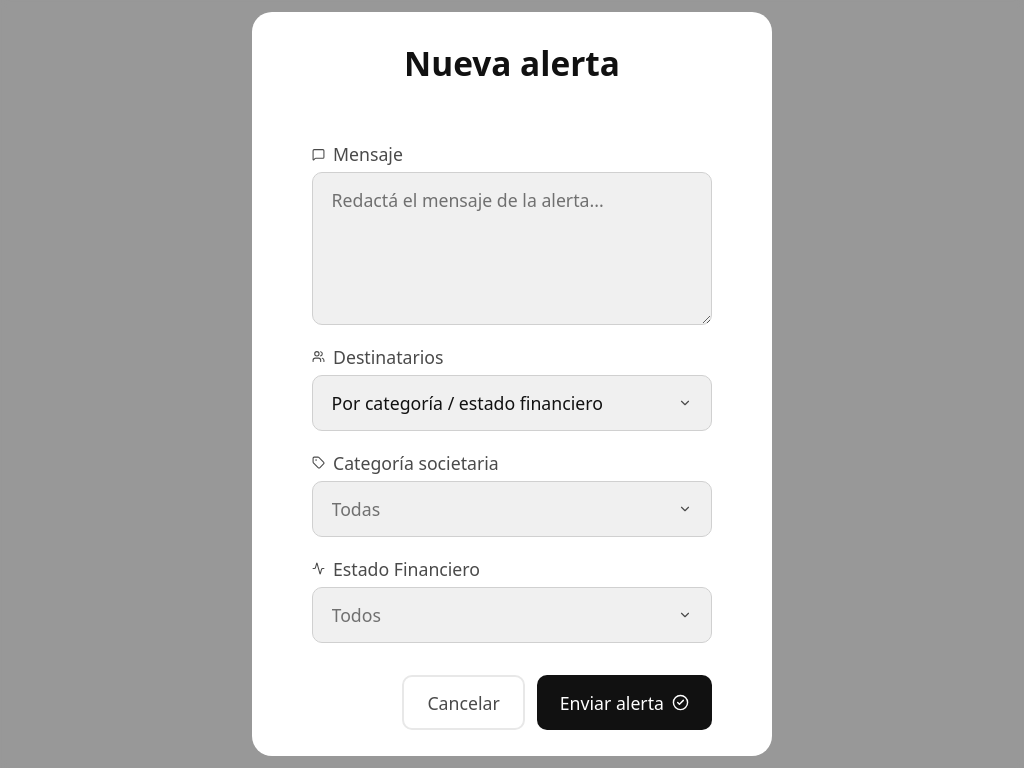
it: CreateAlertaForm › modo "Socios específicos" › no permite agregar el mismo socio dos veces
Select "Socios específicos" in the dropdown labelled "Destinatarios" at (378, 356), box [312,344,444,368]
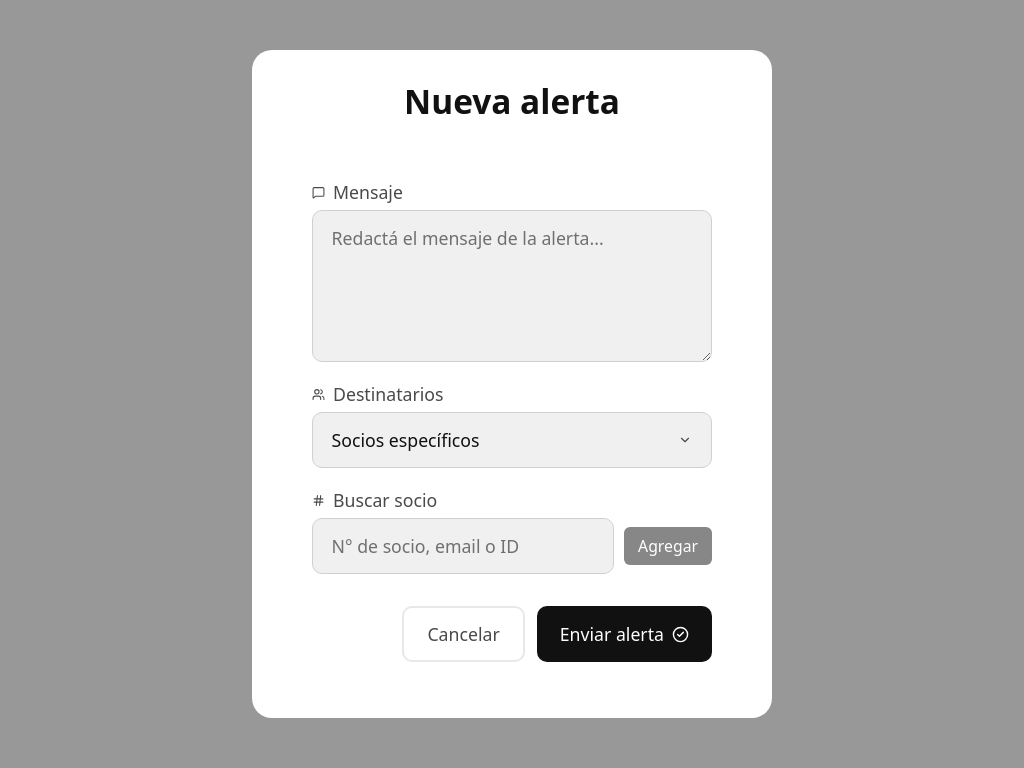
Type "1000" into the field with placeholder "N° de socio, email o ID" at (463, 546), box [312,518,614,574]
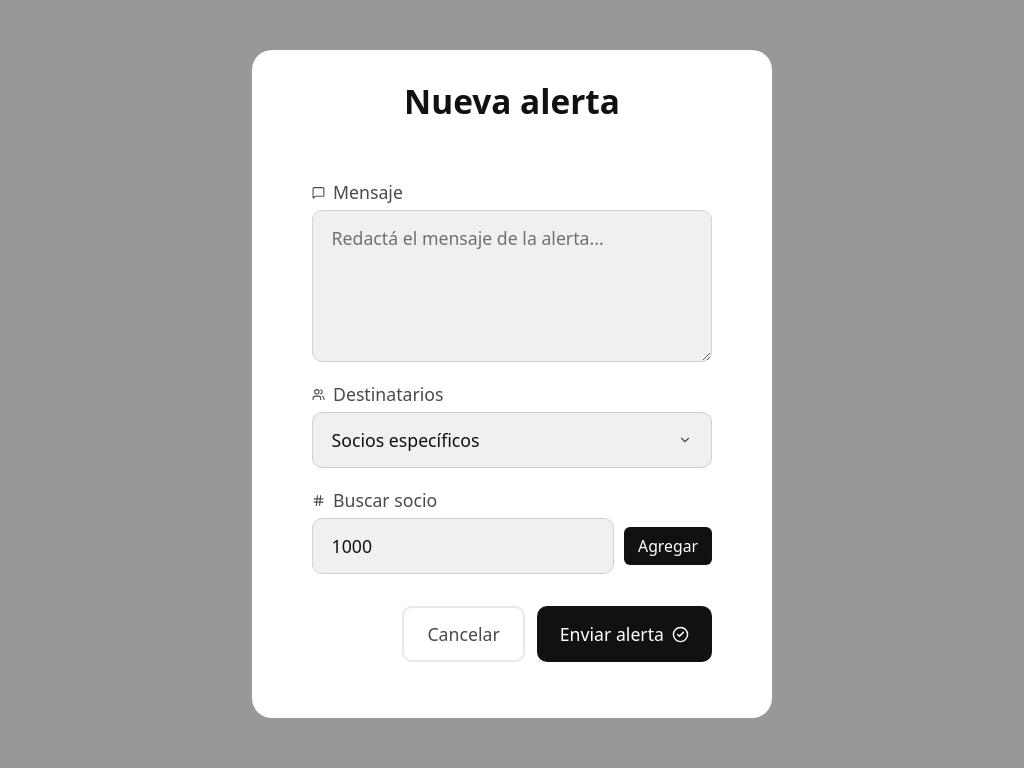
Click the button "Agregar" at (668, 546), box [624,527,712,565]
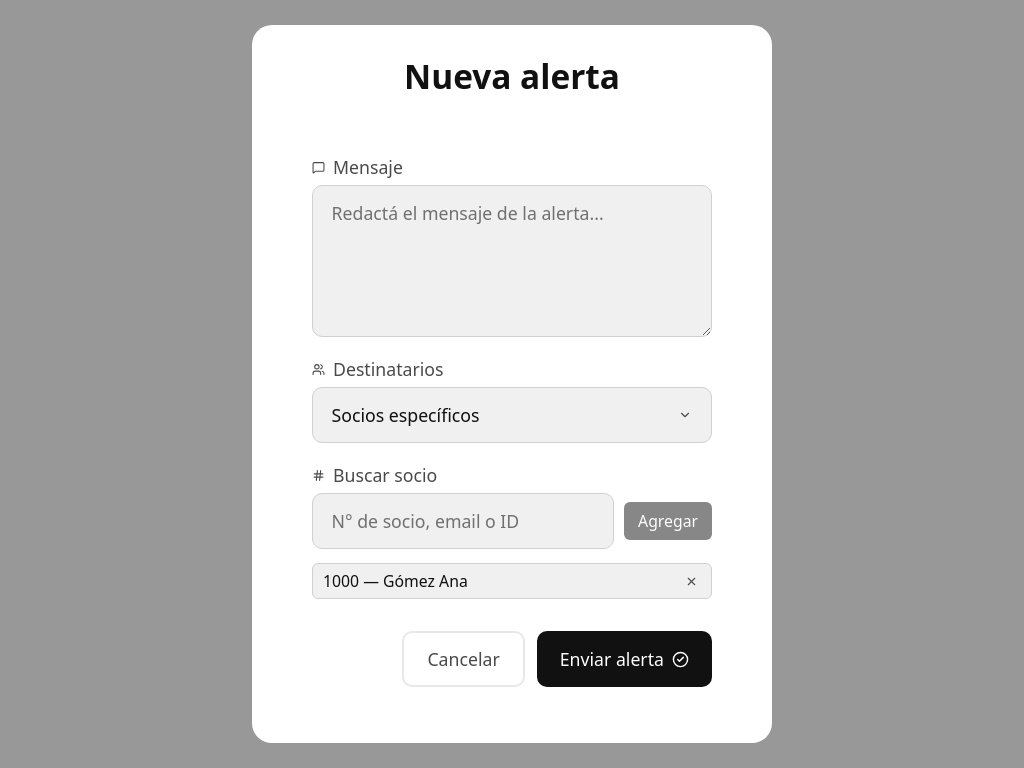
Type "1000" into the field with placeholder "N° de socio, email o ID" at (463, 521), box [312,493,614,549]
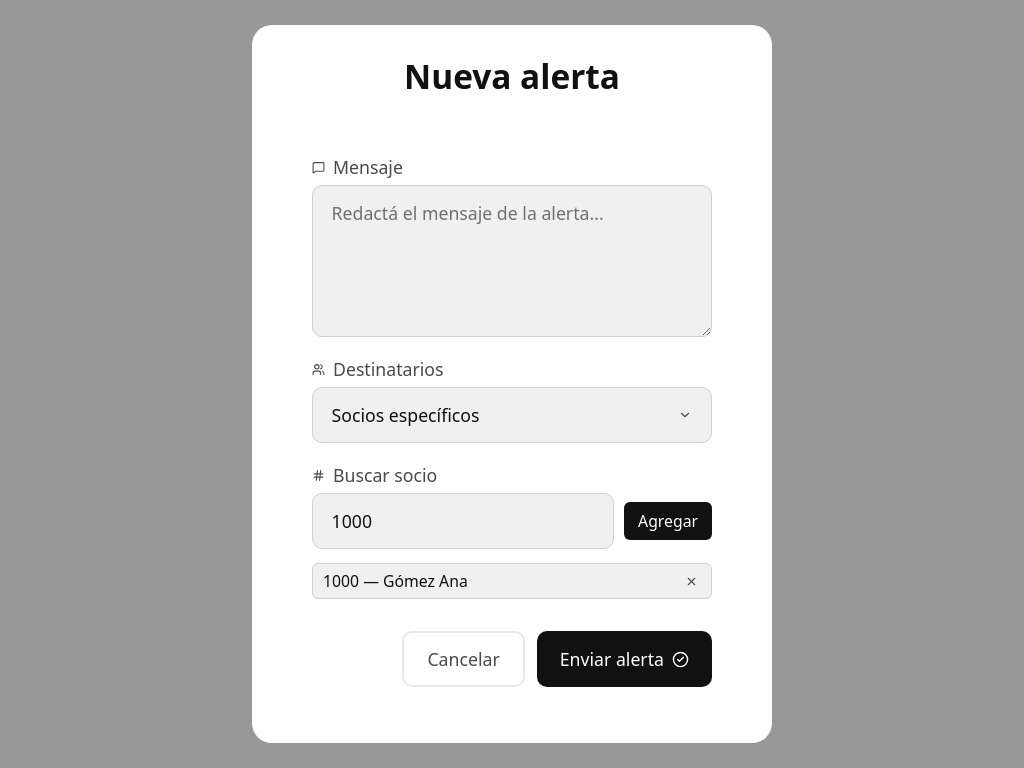
Click the button "Agregar" at (668, 521), box [624,502,712,540]
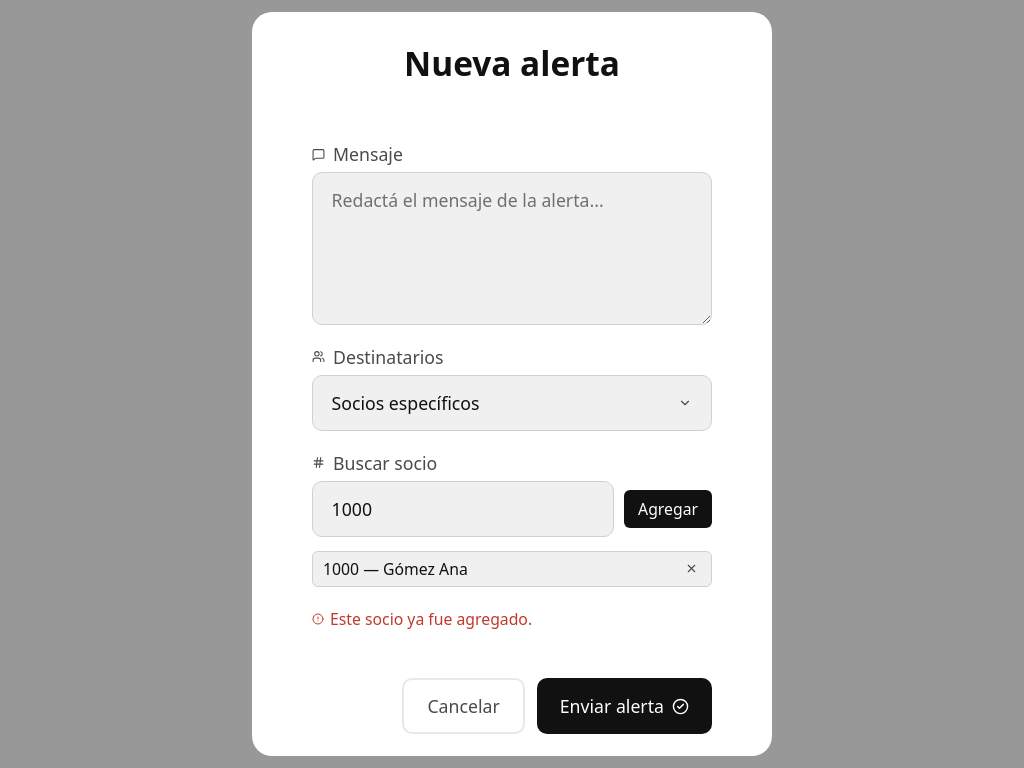
Check: the text "1000 — Gómez Ana" is shown once, box [323,558,468,580]
Check: the text "Este socio ya fue agregado." is shown, box [312,608,532,630]
